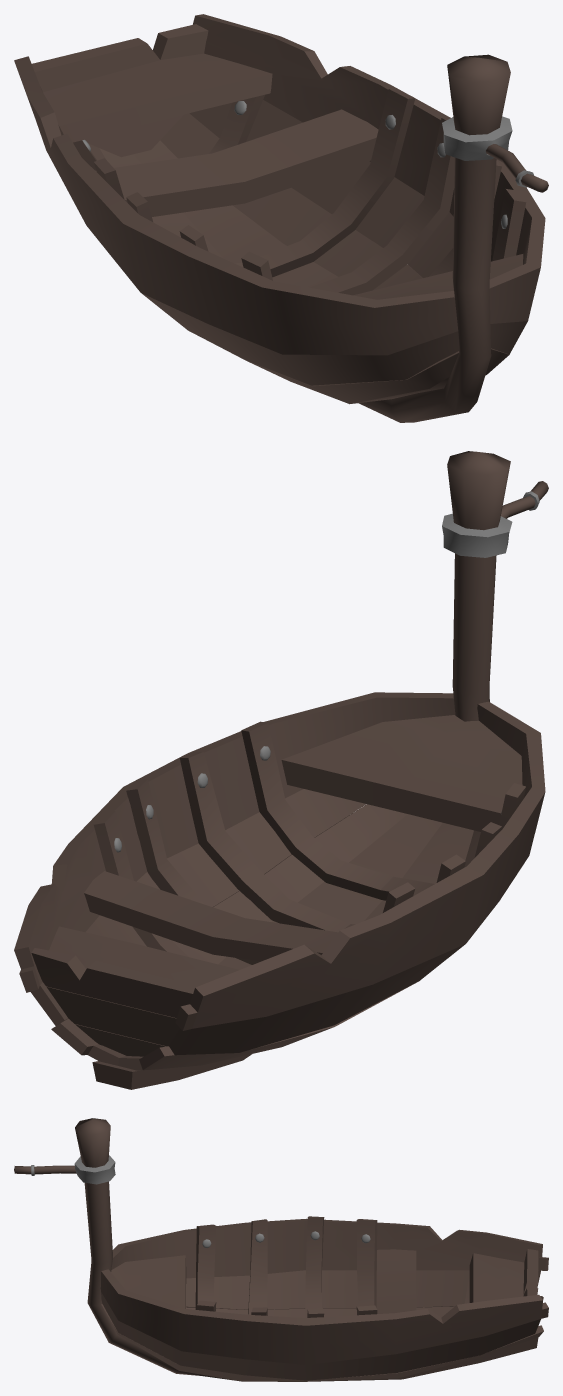
Rendered from [Test]Prop_Boat_MP_M.fbx.
3 views of the same model, one above another, from view 1: azimuth 30°, elevation 25°; view 2: azimuth 150°, elevation 25°; view 3: azimuth 270°, elevation 25° (orthographic). The views are drawn at different scales.
Parts seen in each view (by area): view 1: Planke_01, Verstärkung, Streben, Heck.001, Planke_03, seat, Buck_seat, Heck.002, nails; view 2: Planke_01, Streben, Buck_seat, Planke_03, Verstärkung, Heck.001, seat, Heck, Heck.002; view 3: Planke_01, Verstärkung, Streben, Planke_03, Heck.001, Buck_seat, seat.
Boxes of the visible parts, x1,y1,x2,y2 form: Planke_01: [14, 14, 545, 385]; Verstärkung: [358, 54, 548, 422]; Streben: [73, 88, 526, 295]; Heck.001: [32, 24, 272, 142]; Planke_03: [89, 113, 509, 404]; seat: [95, 109, 378, 216]; Buck_seat: [353, 254, 523, 299]; Heck.002: [85, 114, 183, 157]; nails: [82, 101, 507, 228]; Planke_01: [14, 692, 545, 1055]; Streben: [94, 721, 525, 964]; Buck_seat: [281, 715, 522, 831]; Planke_03: [51, 804, 480, 1070]; Verstärkung: [92, 451, 548, 1089]; Heck.001: [31, 926, 239, 1018]; seat: [84, 871, 338, 961]; Heck: [46, 986, 179, 1046]; Heck.002: [75, 1024, 166, 1056]; Planke_01: [100, 1218, 548, 1380]; Verstärkung: [14, 1118, 538, 1381]; Streben: [195, 1216, 469, 1317]; Planke_03: [101, 1296, 543, 1381]; Heck.001: [469, 1249, 538, 1302]; Buck_seat: [111, 1255, 186, 1308]; seat: [377, 1249, 416, 1313].
Size of the model in its own units: 24.4 by 27.61 by 51.57.
